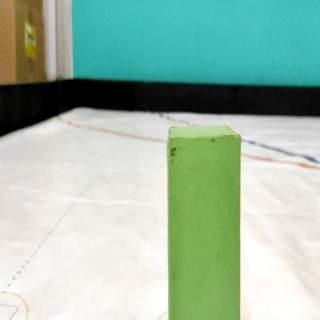greenbox: (166, 126, 242, 320)
